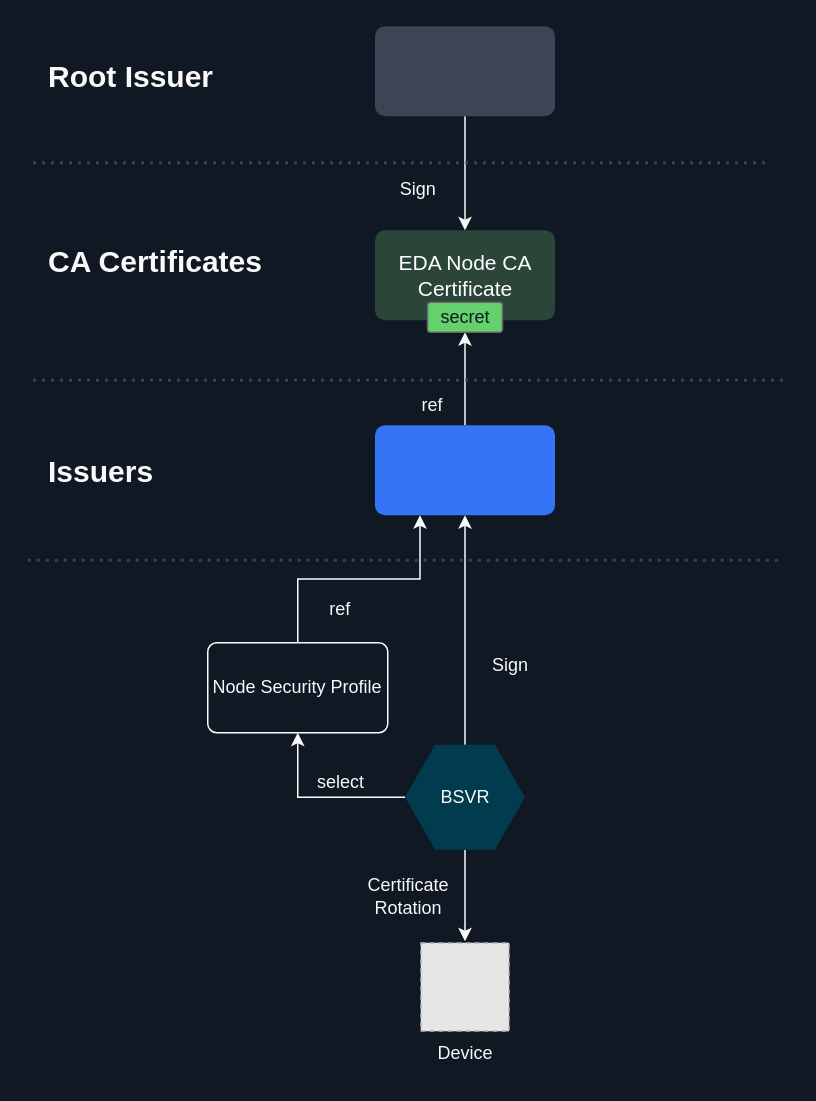
Some shapes in this 816 by 1101 pixel diagram are drawn without their labels. Grey dashed boxes stand in for pictures. The shapes that lost their labels are listed below. From the top down, each one's centre as x and y in pixels, then its label:
At point (464, 71): "EDA root Issuer (selfSigned)".
At point (464, 469): "EDA Node Issuer".
